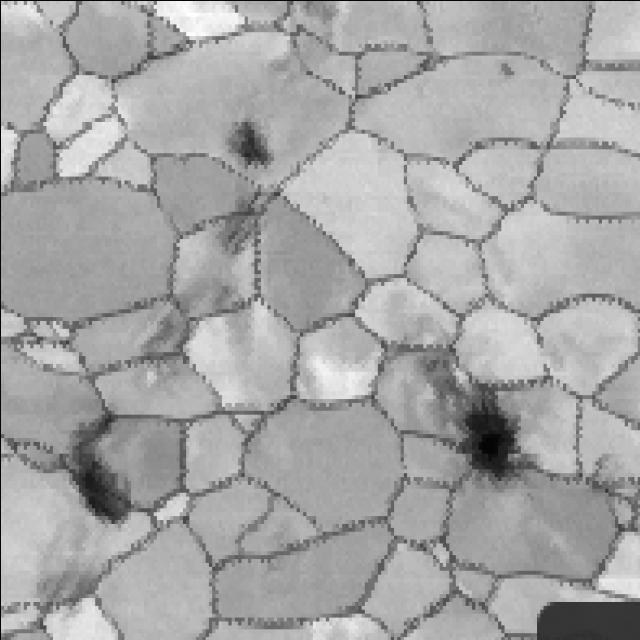good_void: (398, 350, 529, 485), (56, 410, 138, 523), (215, 181, 290, 257), (223, 106, 274, 181), (493, 54, 517, 82)
